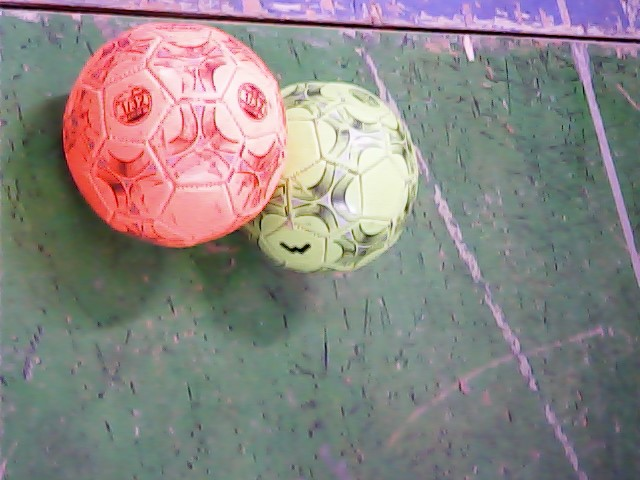Green_ball: (263, 49, 432, 281)
Orange_ball: (62, 20, 291, 248)
